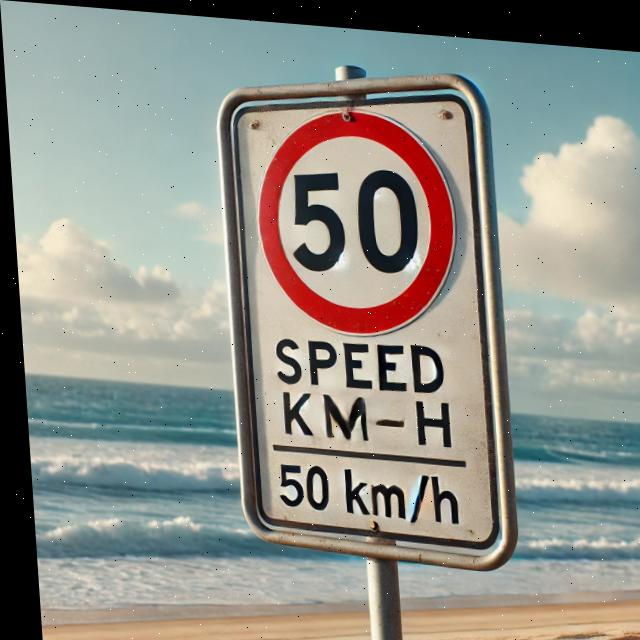Speed limit 50: (248, 95, 462, 338)
